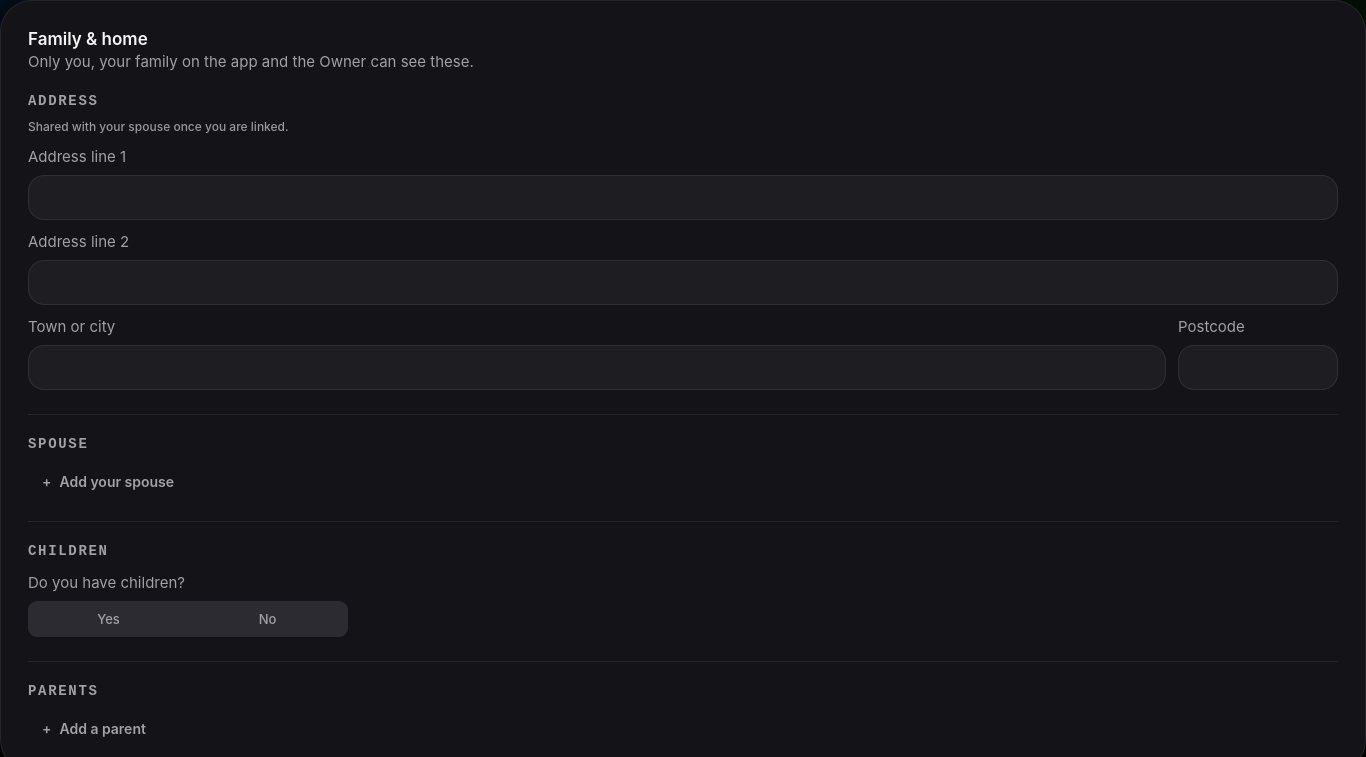
the family card › asks whether there are children before offering to add one
Expected: the button "Add a child" is not shown
Click the button "Yes": (108, 619) [30,603,187,635]
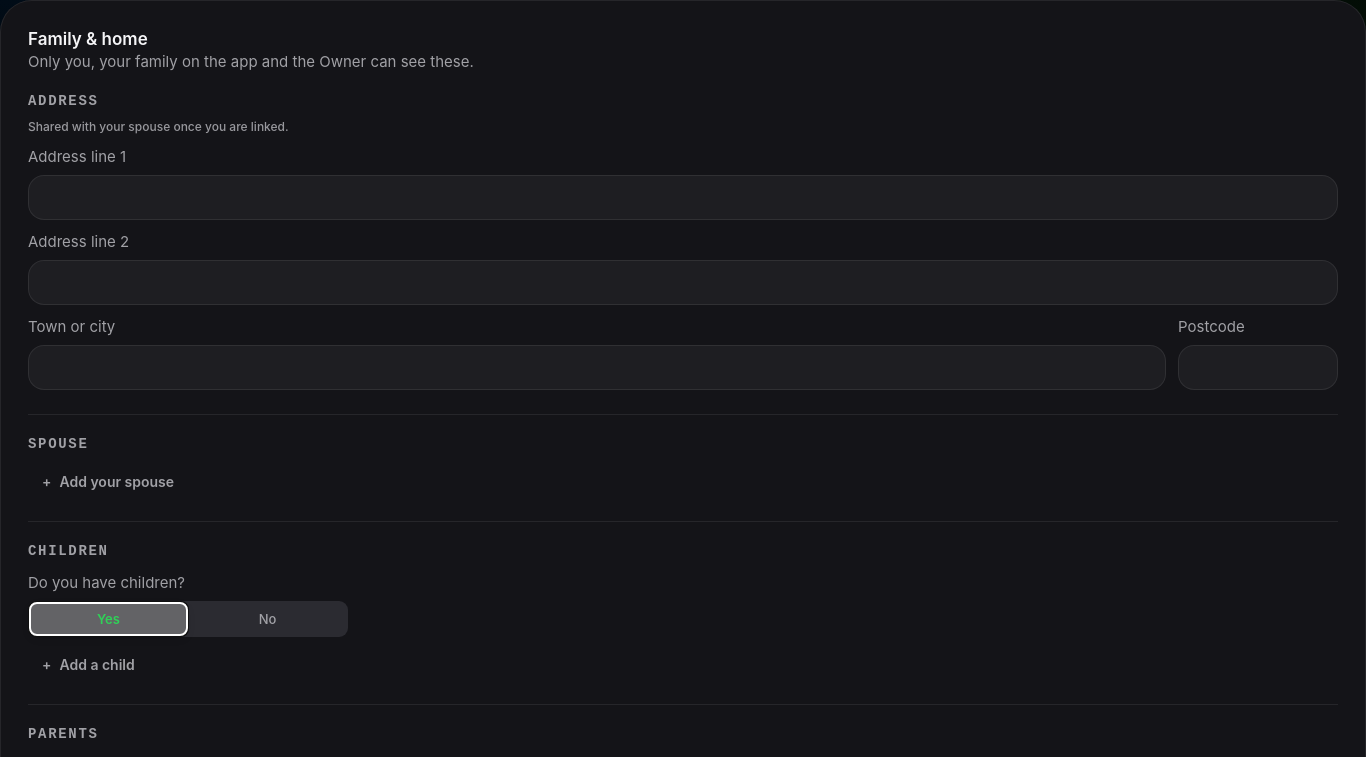
Expected: the button "+ Add a child" is shown, [28,649,149,680]
